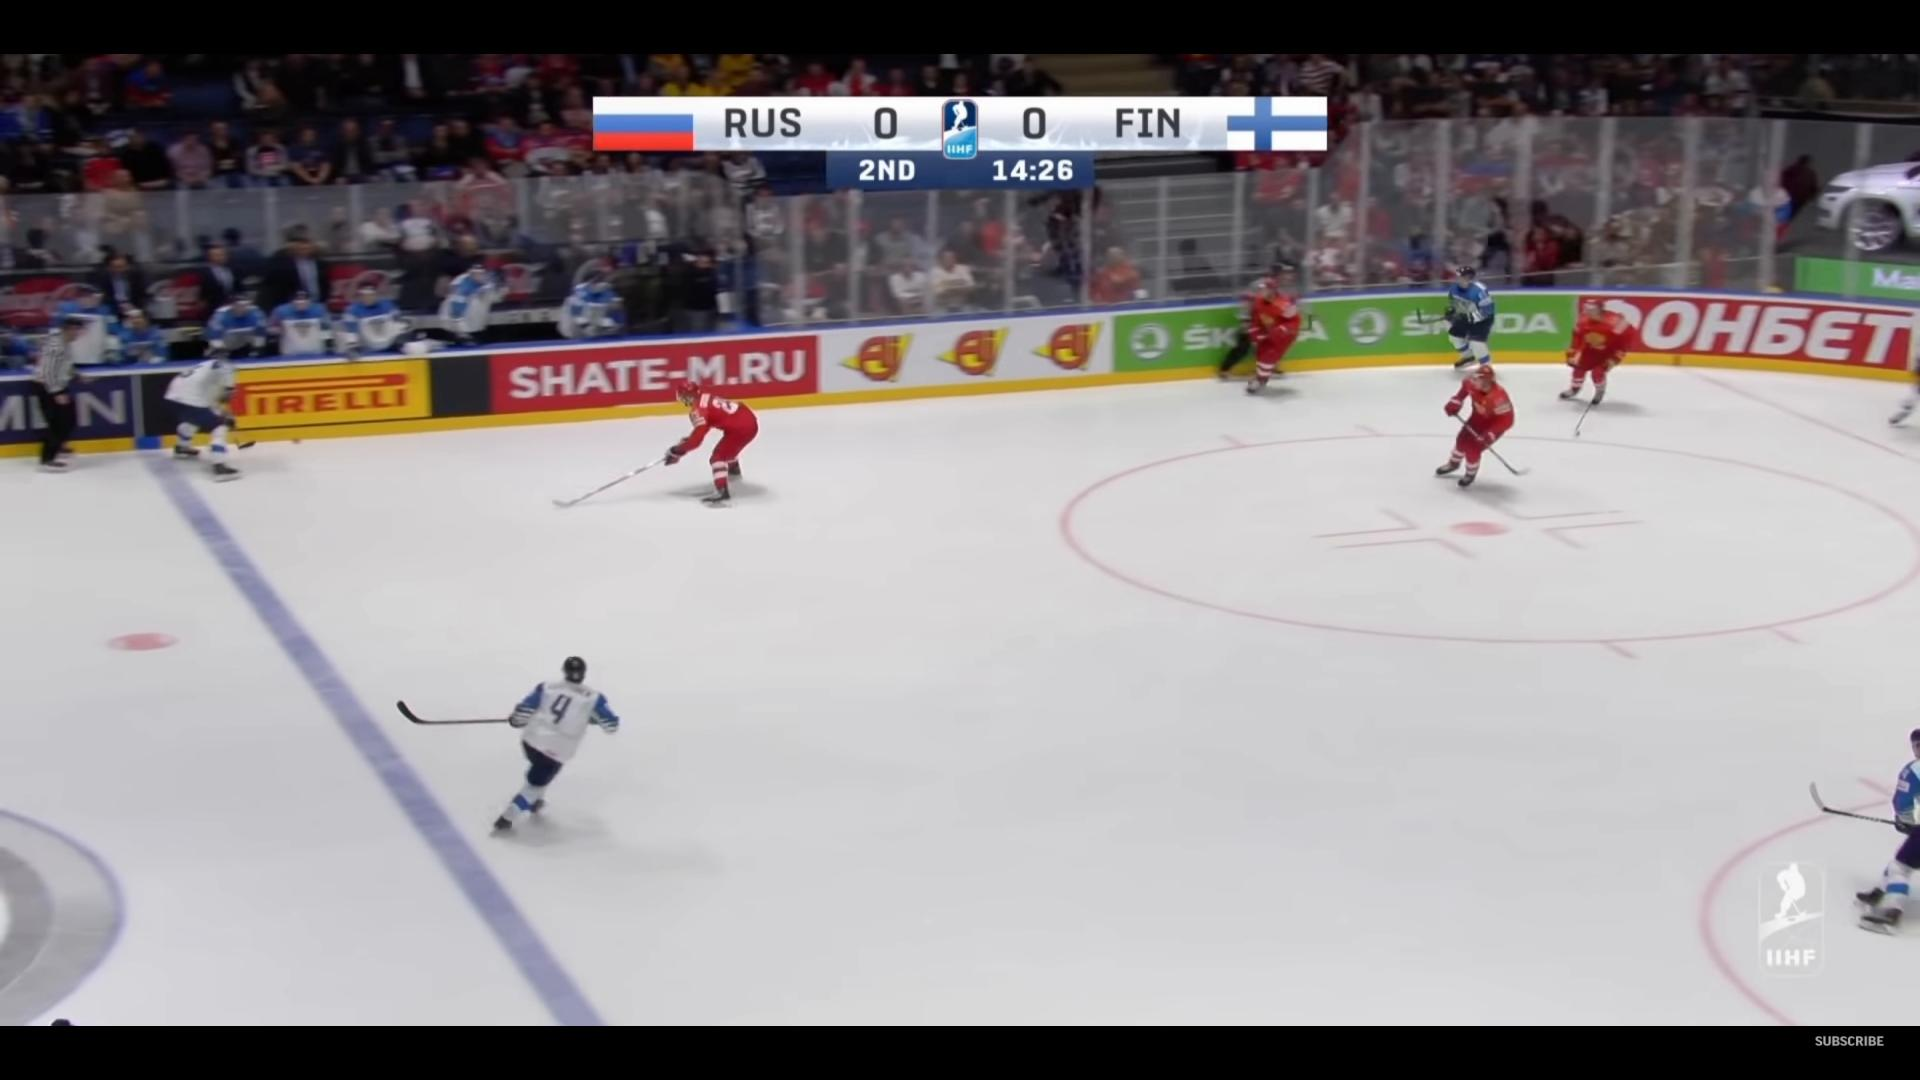puck: (290, 436, 301, 444)
